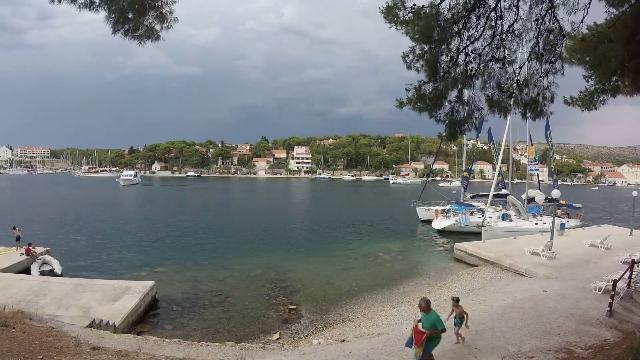Sailboat: (387, 174, 425, 185)
ferry: (113, 165, 147, 189)
